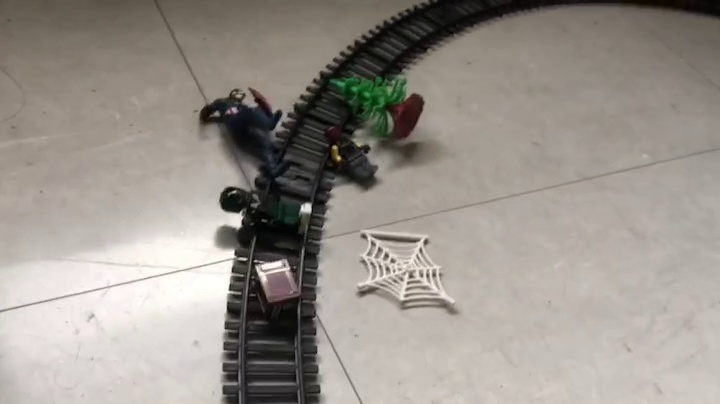box: (253, 259, 303, 323)
people: (199, 88, 293, 180), (220, 184, 315, 243), (322, 128, 380, 187)
tree: (328, 72, 426, 142)
web: (355, 228, 456, 309)
